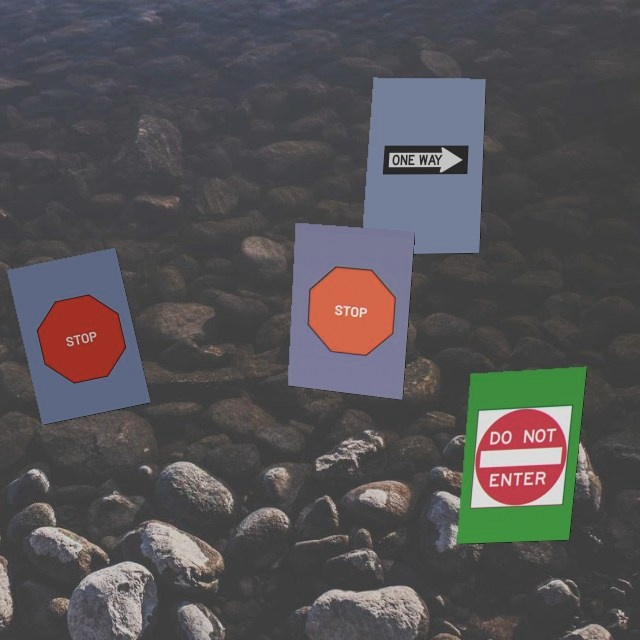DO_NOT_ENTER: (470, 404, 573, 511)
ONE_WAY_ right: (383, 145, 468, 174)
STOP: (31, 289, 132, 388), (305, 264, 397, 358)
